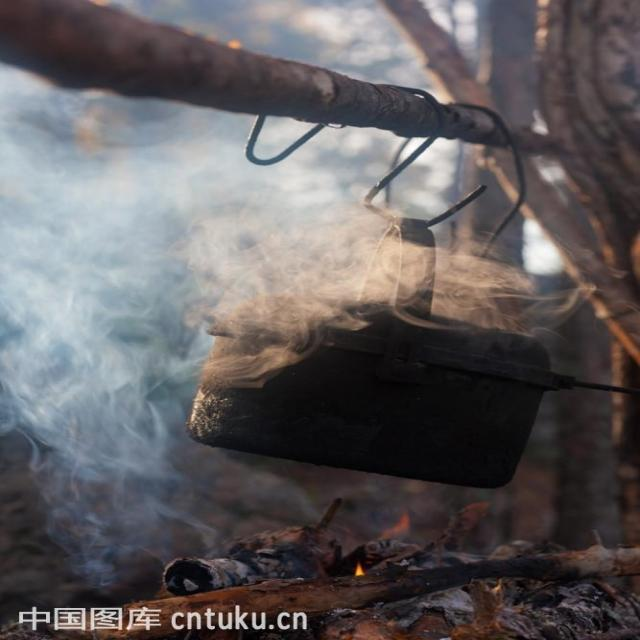Smoke: (0, 60, 640, 597)
